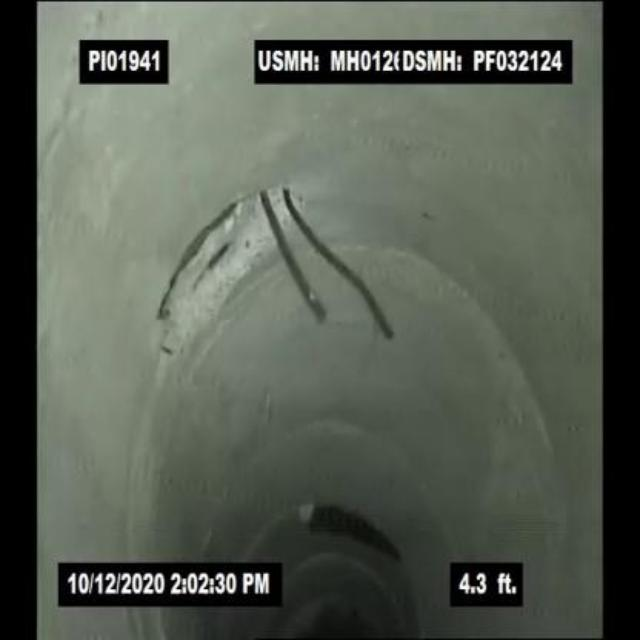Hole: (152, 174, 311, 351)
